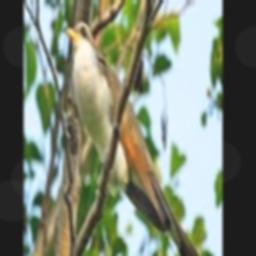Cuckoo: (63, 22, 212, 256)
